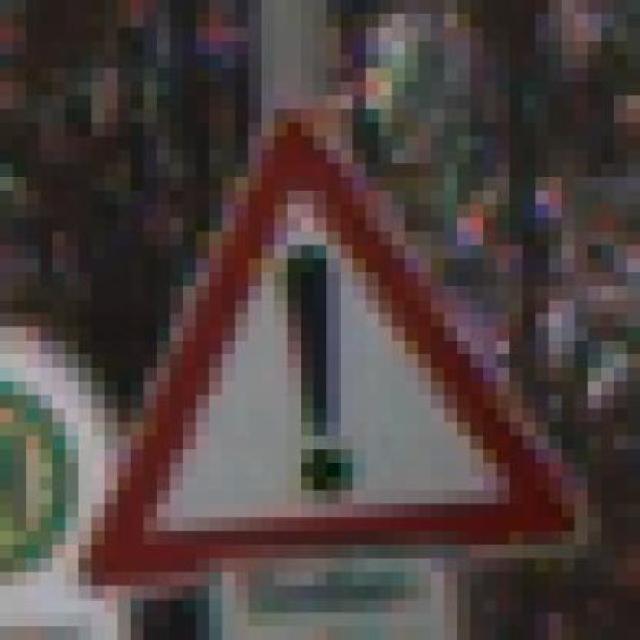Attention Please-: (57, 110, 606, 601)
